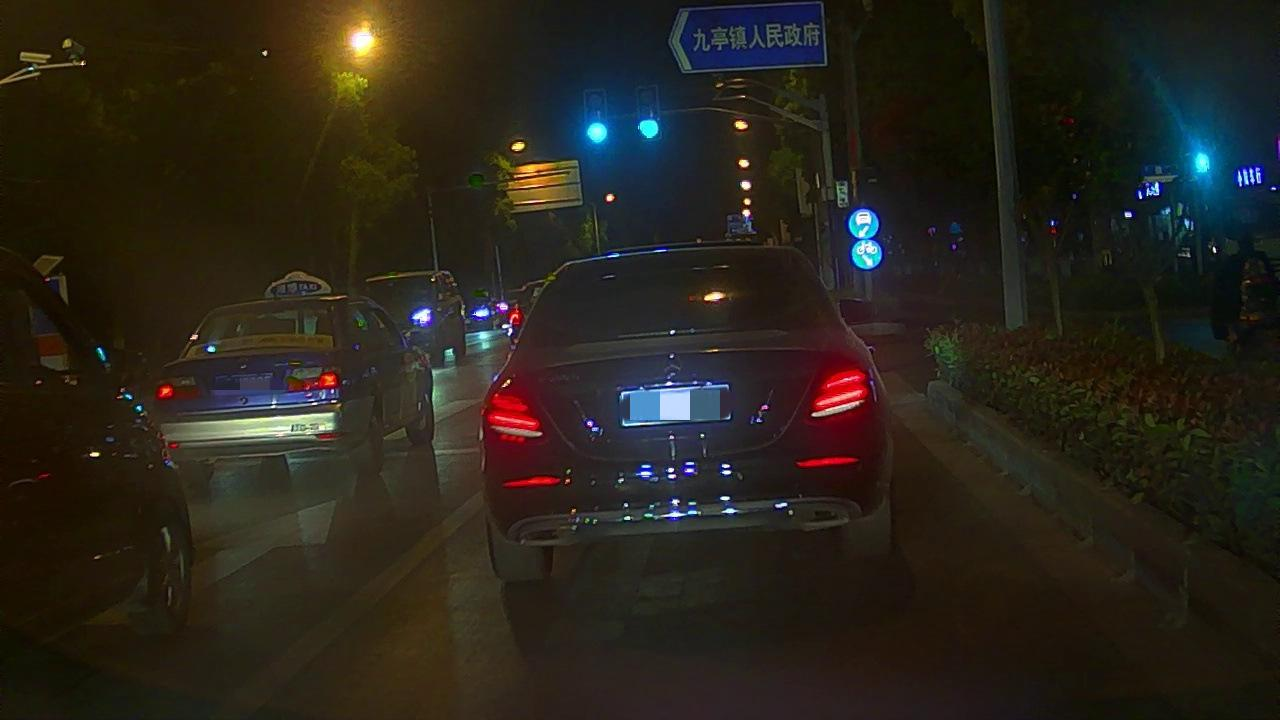traffic_light: (585, 88, 610, 148), (637, 87, 657, 142)
